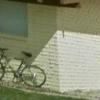Bicycle: (0, 35, 48, 92)
